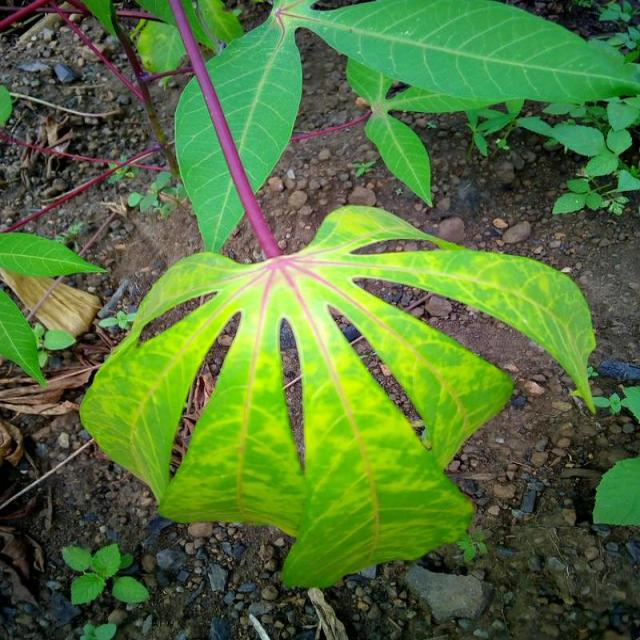cassava leaf: (78, 202, 597, 588), (280, 0, 638, 110), (173, 6, 303, 253)
